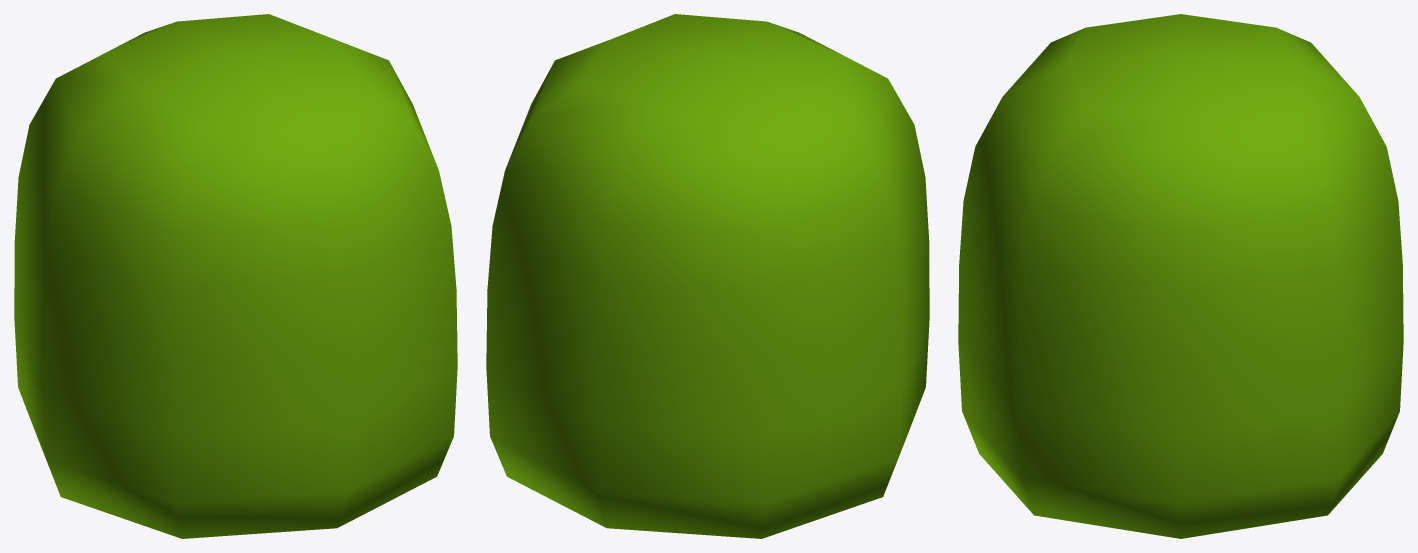
Rendered from Bush_11.fbx.
3 views of the same model, side by side, from view 1: azimuth 30°, elevation 25°; view 2: azimuth 150°, elevation 25°; view 3: azimuth 270°, elevation 25° (orthographic).
Parts seen in each view (by area): view 1: Bush_11; view 2: Bush_11; view 3: Bush_11.
Part boxes in pixels (x1=…): Bush_11: x1=14, y1=14, x2=457, y2=538; Bush_11: x1=486, y1=14, x2=929, y2=538; Bush_11: x1=958, y1=14, x2=1403, y2=538.
Bounding box in the file's own units: 64.7 × 68.46 × 64.7.
